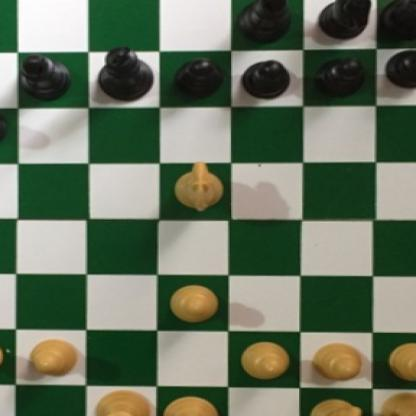black-bishop: (16, 54, 75, 103), (235, 0, 286, 44)
black-king: (94, 43, 155, 105)
black-knight: (318, 0, 373, 46)
black-pawn: (169, 57, 224, 102), (313, 56, 365, 100), (241, 59, 292, 101), (384, 48, 416, 89), (0, 110, 7, 148)
black-rook: (374, 0, 416, 44)
white-king: (159, 392, 220, 416)
white-knight: (170, 160, 224, 214), (305, 392, 367, 416)
white-pawn: (25, 335, 79, 379), (238, 340, 292, 381), (169, 284, 220, 326), (311, 342, 363, 381), (383, 341, 416, 383), (0, 336, 6, 377)
white-queen: (90, 388, 150, 416)
white-rook: (374, 388, 416, 416)
